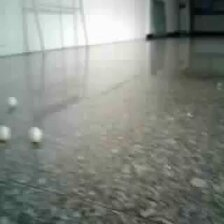w: (27, 127, 41, 142), (1, 125, 10, 142), (8, 97, 16, 106)
